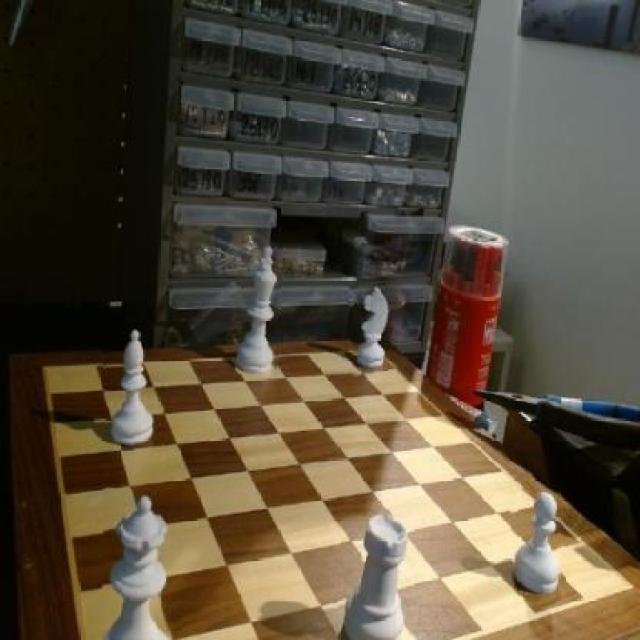black-rook: (103, 323, 164, 451)
white-bishop: (237, 243, 281, 377)
white-king: (350, 282, 398, 378)
white-knight: (509, 486, 564, 601)
white-pawn: (102, 489, 172, 640)
white-queen: (337, 507, 414, 640)
